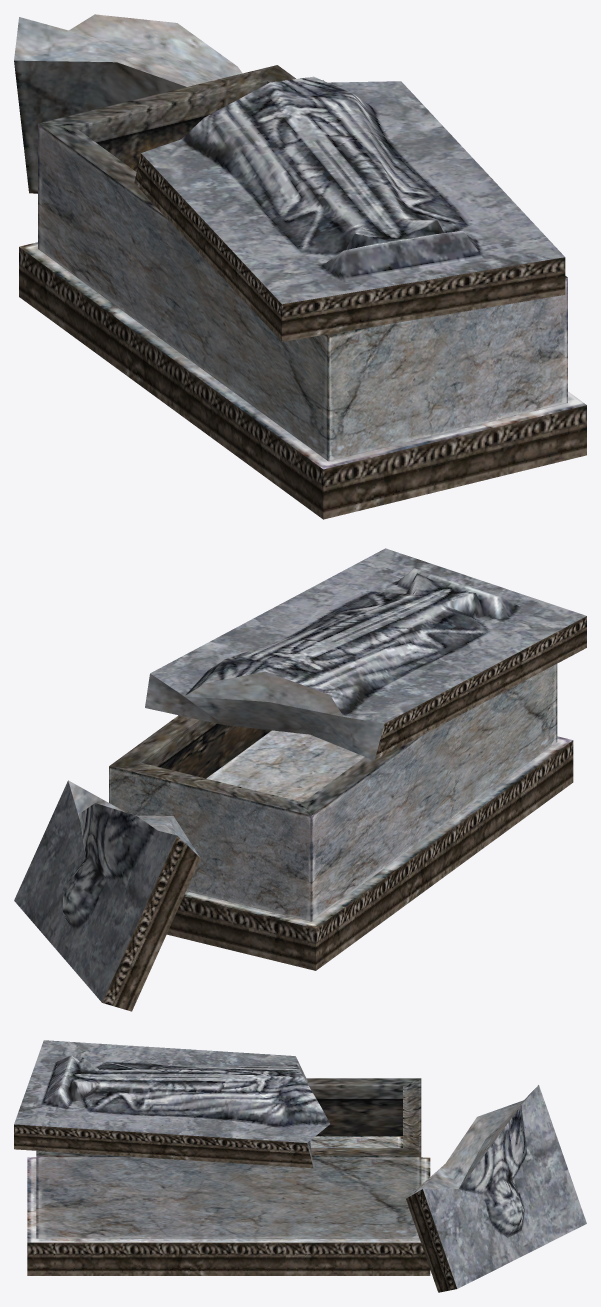
Rendered from d_sark4.glb.
3 views of the same model, one above another, from view 1: azimuth 30°, elevation 25°; view 2: azimuth 150°, elevation 25°; view 3: azimuth 270°, elevation 25° (orthographic). The views are drawn at different scales.
Visible parts, largest first — view 1: d_sark4; view 2: d_sark4; view 3: d_sark4.
Boxes of the visible parts, x1=… form: d_sark4: x1=14, y1=14, x2=586, y2=519; d_sark4: x1=14, y1=548, x2=586, y2=1011; d_sark4: x1=14, y1=1040, x2=586, y2=1292.
Bounding box in the file's own units: 1.53 × 0.9821 × 3.13.
3 materials, 3 textured.
